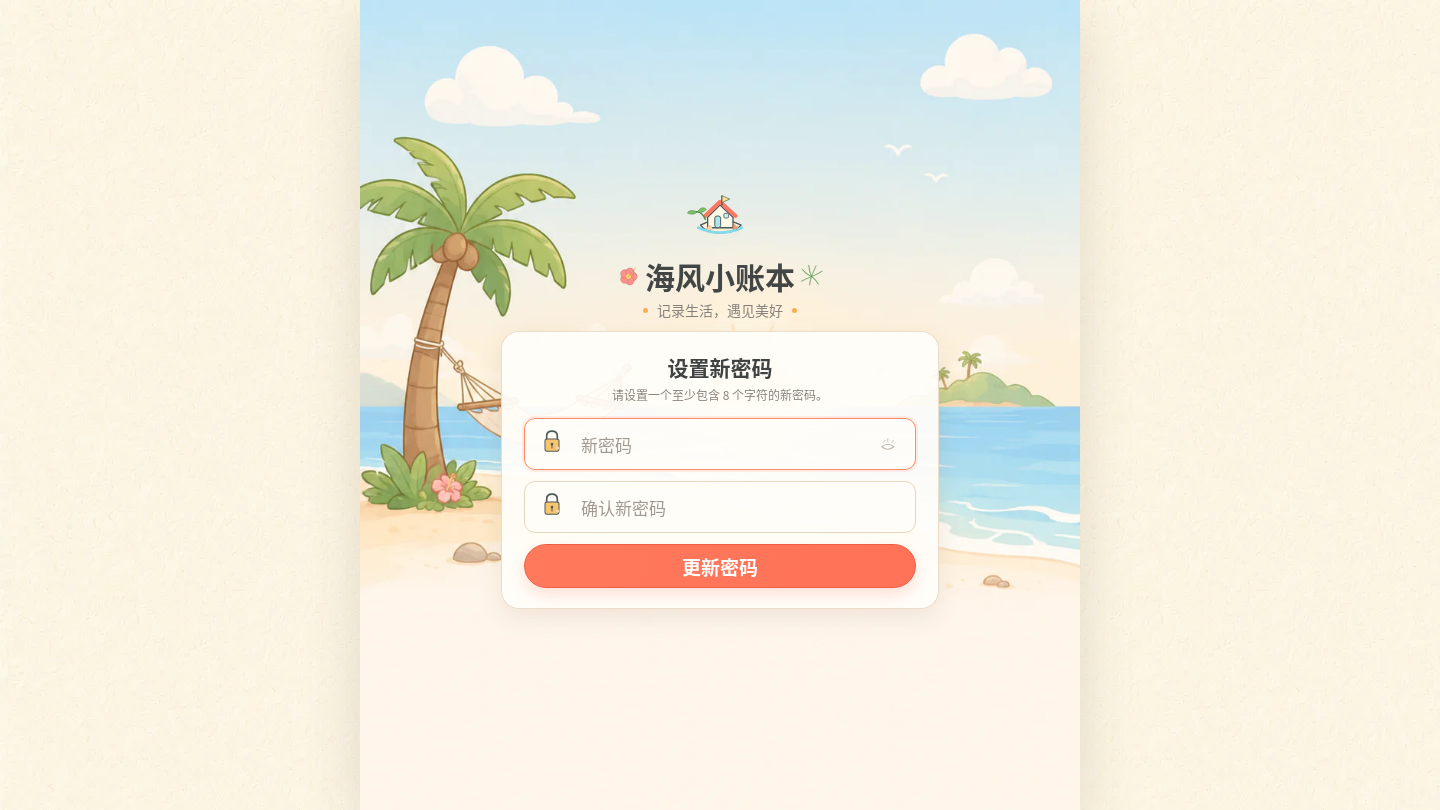
Test: AuthPage › clears a password mismatch when 确认新密码 is edited
The width and height of the screenshot is (1440, 810).
Type "password123" into the password field labelled "新密码".
click(724, 444); type("password123")  # box [577,419,871,469]
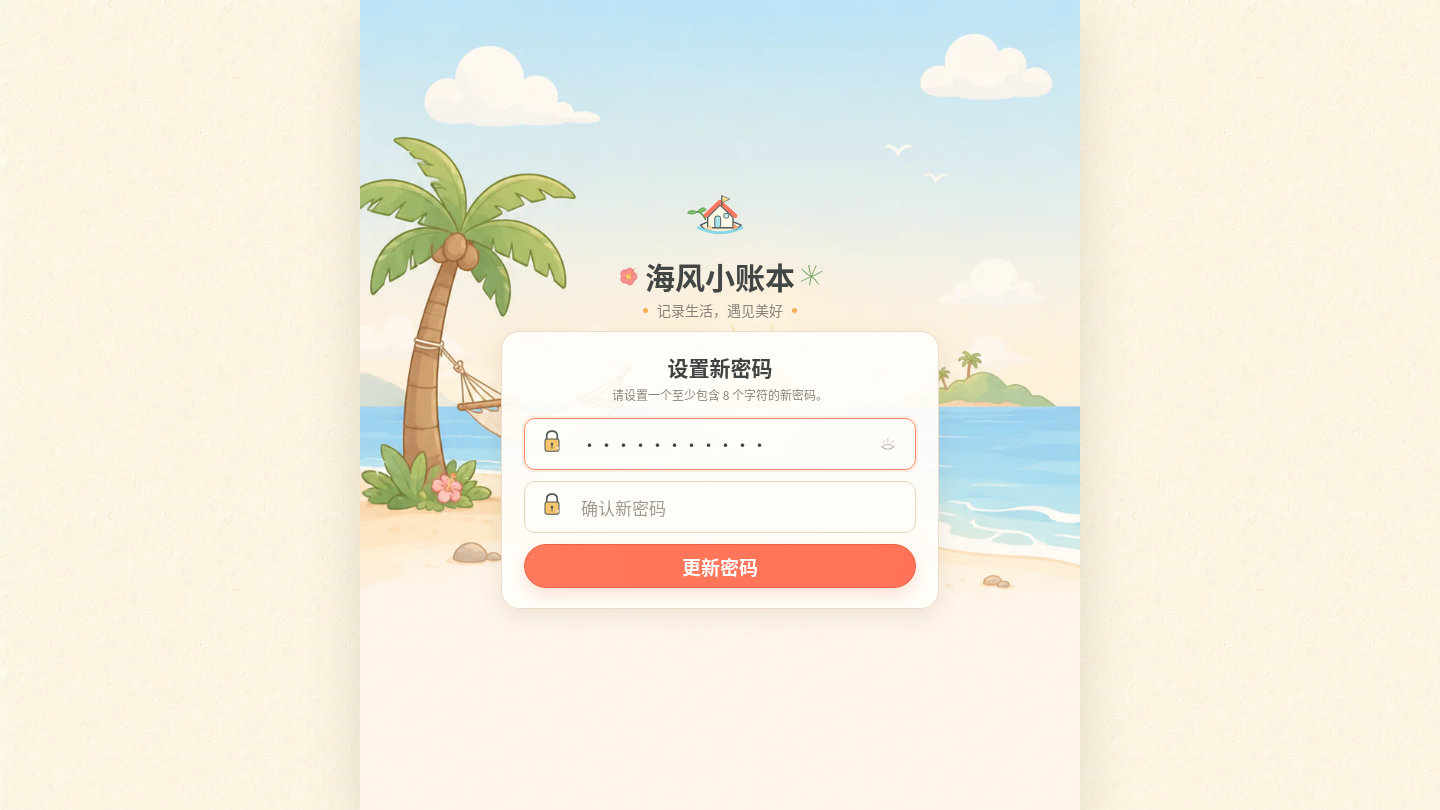
Type "password456" into the password field labelled "确认新密码".
click(724, 507); type("password456")  # box [577,482,871,532]
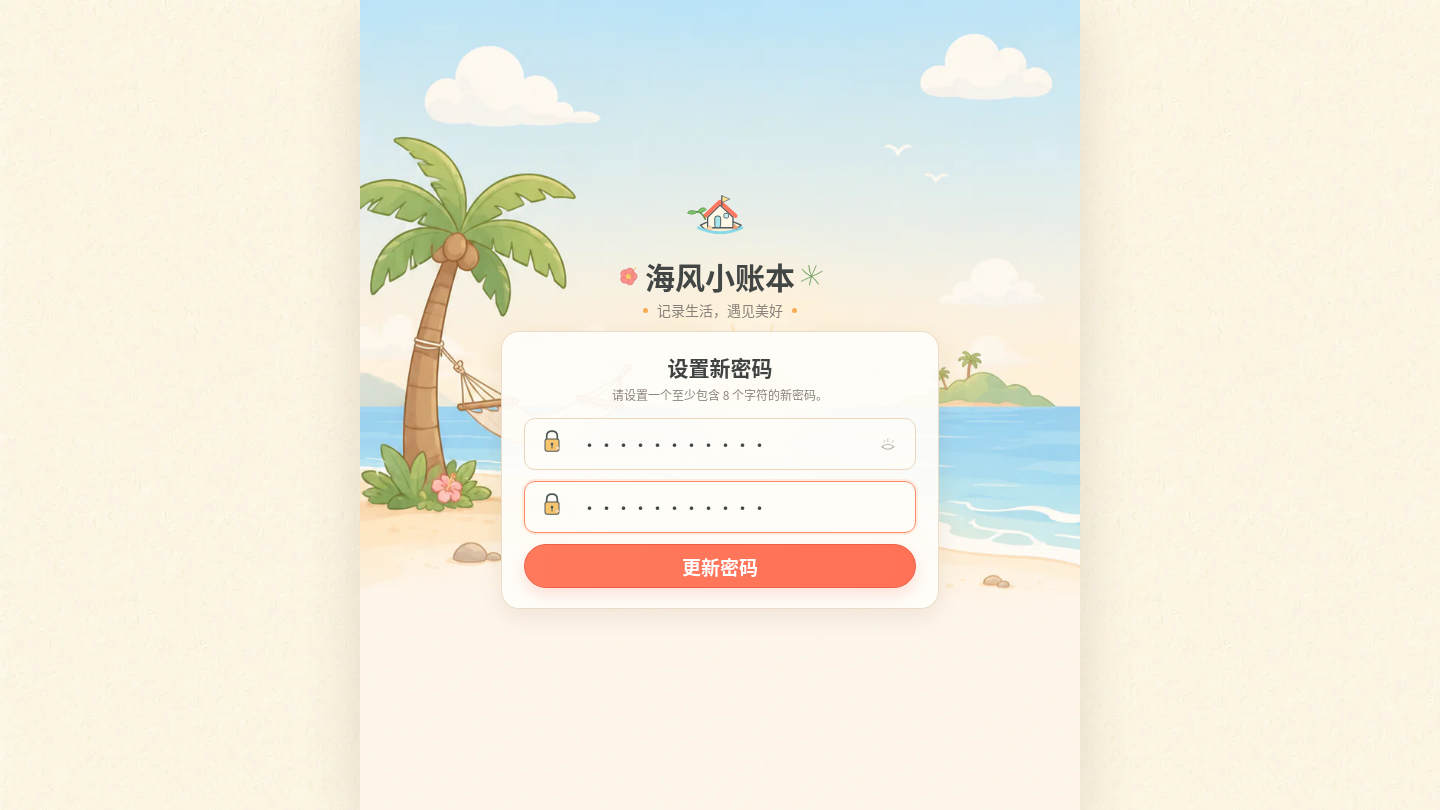
Click the button "更新密码".
click(720, 566)  # box [524,544,916,588]
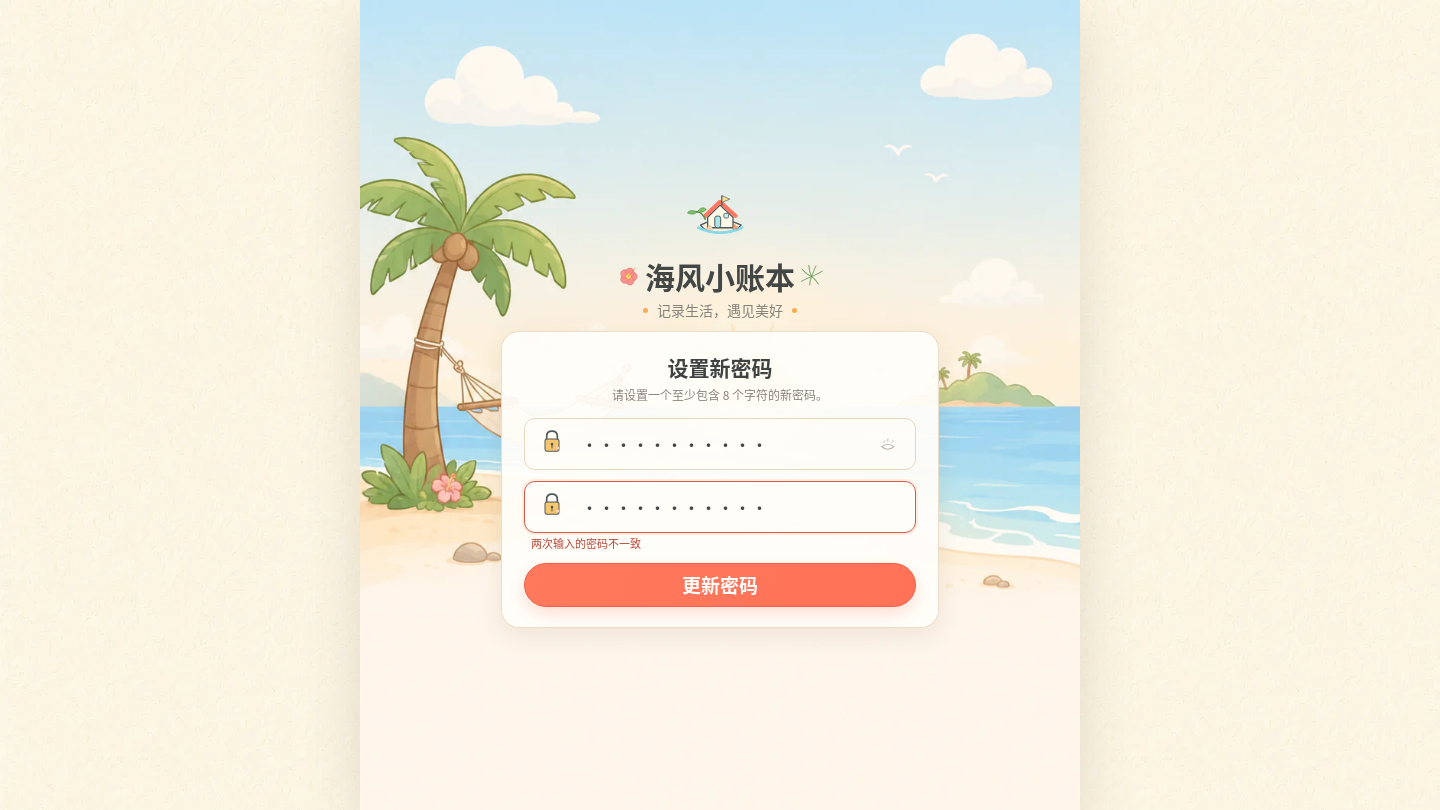
Result: the text "两次输入的密码不一致" is shown at [531,535,641,551]
Type "x" into the 2nd password field named "确认新密码".
click(724, 507); type("x")  # box [577,482,871,532]
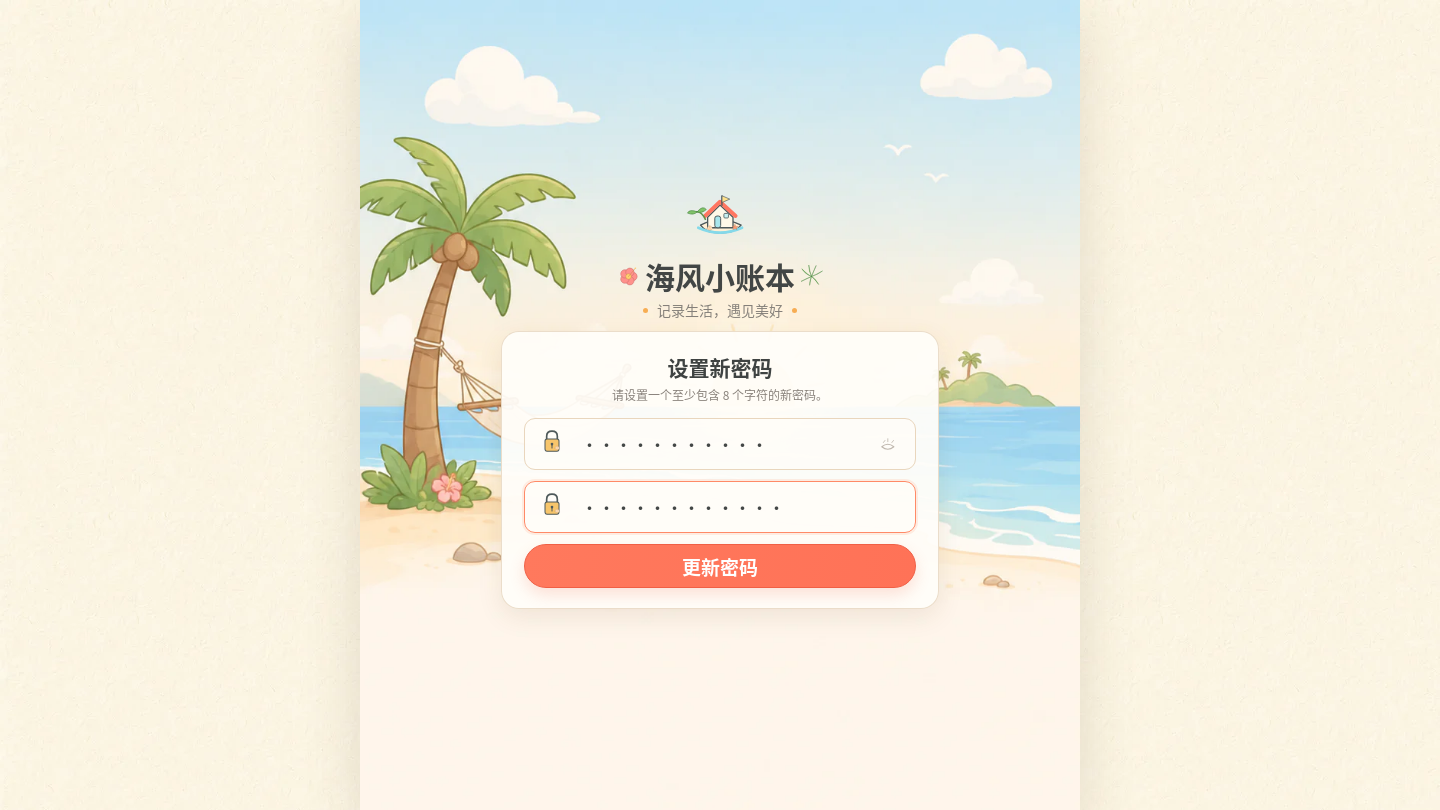
Result: the text "两次输入的密码不一致" is gone
